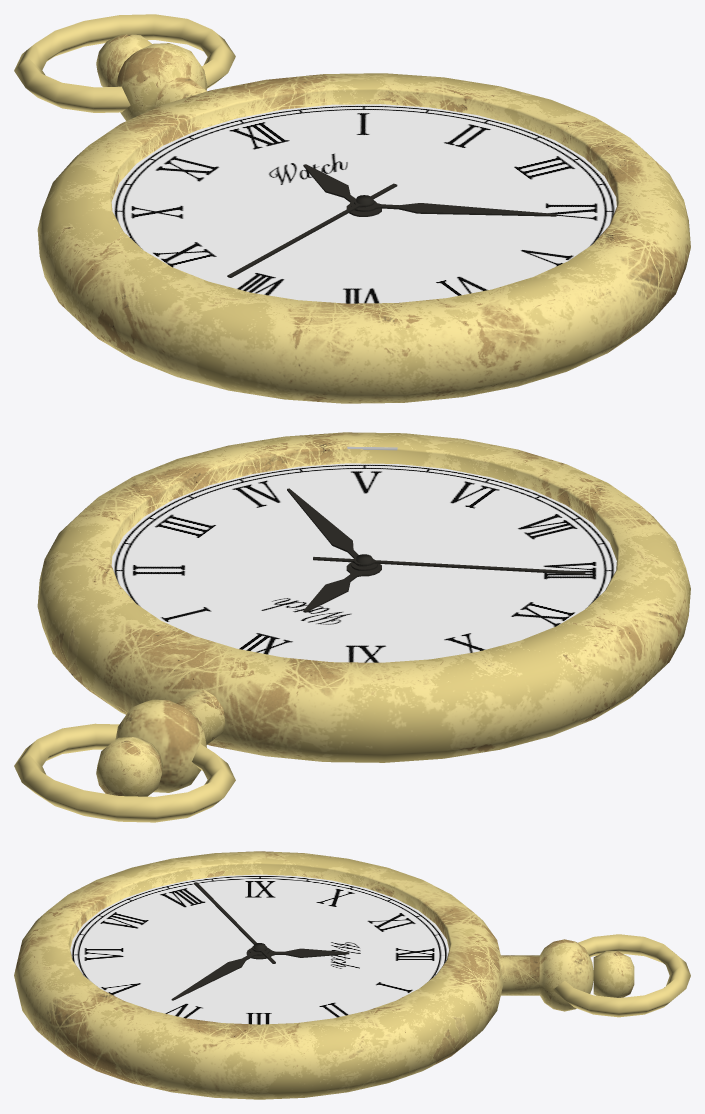
Rendered from watch.fbx.
3 renders of one model, top to bottom at view 1: azimuth 30°, elevation 25°; view 2: azimuth 150°, elevation 25°; view 3: azimuth 270°, elevation 25°, orthographic. The views are drawn at different scales.
Parts seen in each view (by area): view 1: watch; view 2: watch; view 3: watch.
Boxes of the visible parts, x1,y1,x2,y2 form: watch: (14,14,690,403); watch: (14,432,690,822); watch: (14,851,690,1099).
Size of the model in its own units: 20.24 by 2.99 by 27.87.
